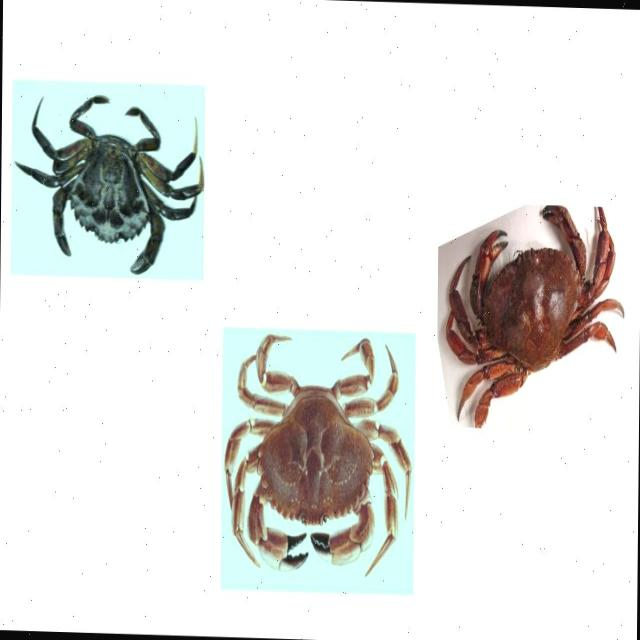egc: (12, 93, 205, 276)
